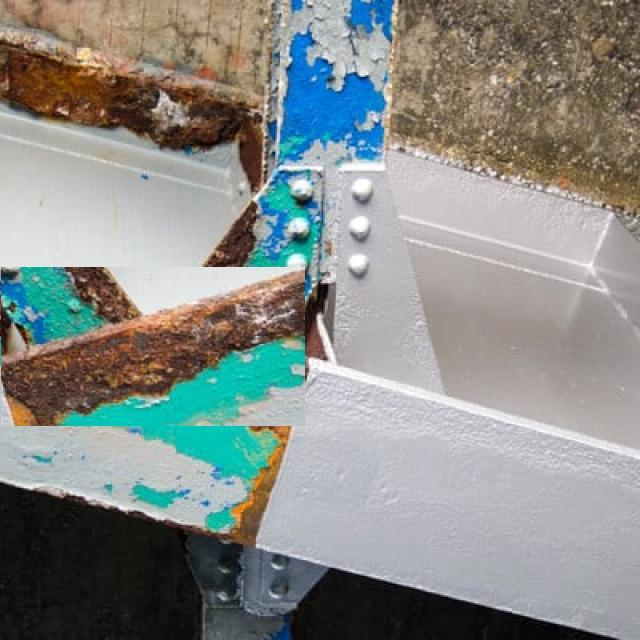Corrosion: (1, 268, 304, 426), (0, 42, 262, 188), (66, 268, 141, 324), (204, 201, 258, 267), (306, 313, 337, 364)
